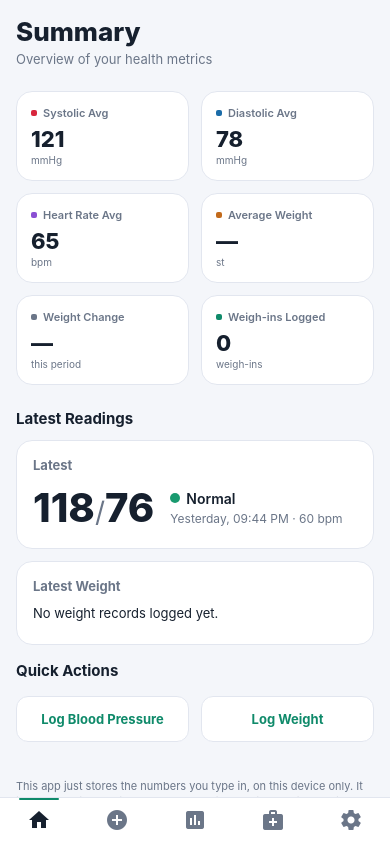
Test: App › averages only the readings inside the selected period
Expected: the text "Summary" is shown, [16,16,141,47]
Click the tab named "Log". click: [117, 820]
box: [105,808,129,832]
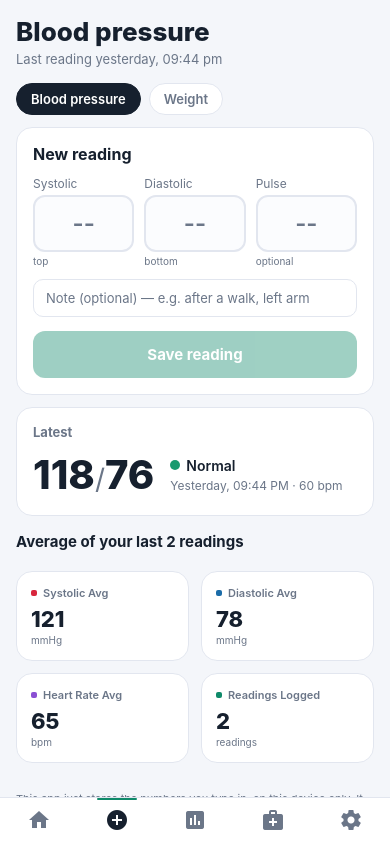
Expected: the text "121" is shown, [31,606,64,632]
Expected: the text "New reading" is shown, [33,144,132,164]
Click the tab named "Trends". click: [195, 820]
box: [183,808,207,832]
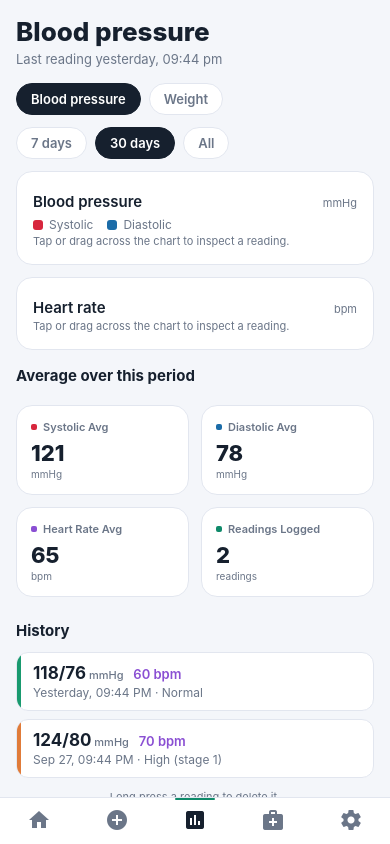
Click the text "All". click: [206, 143]
box: [198,135,214,151]
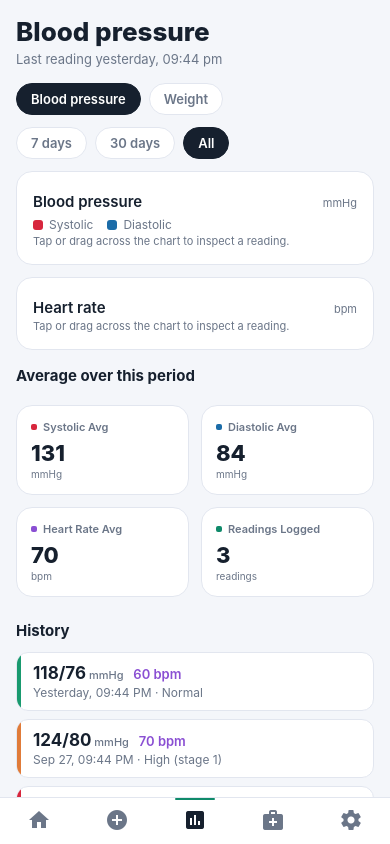
Expected: the text "131" is shown, [31,440,65,466]
Expected: the text "84" is shown, [216,440,246,466]
